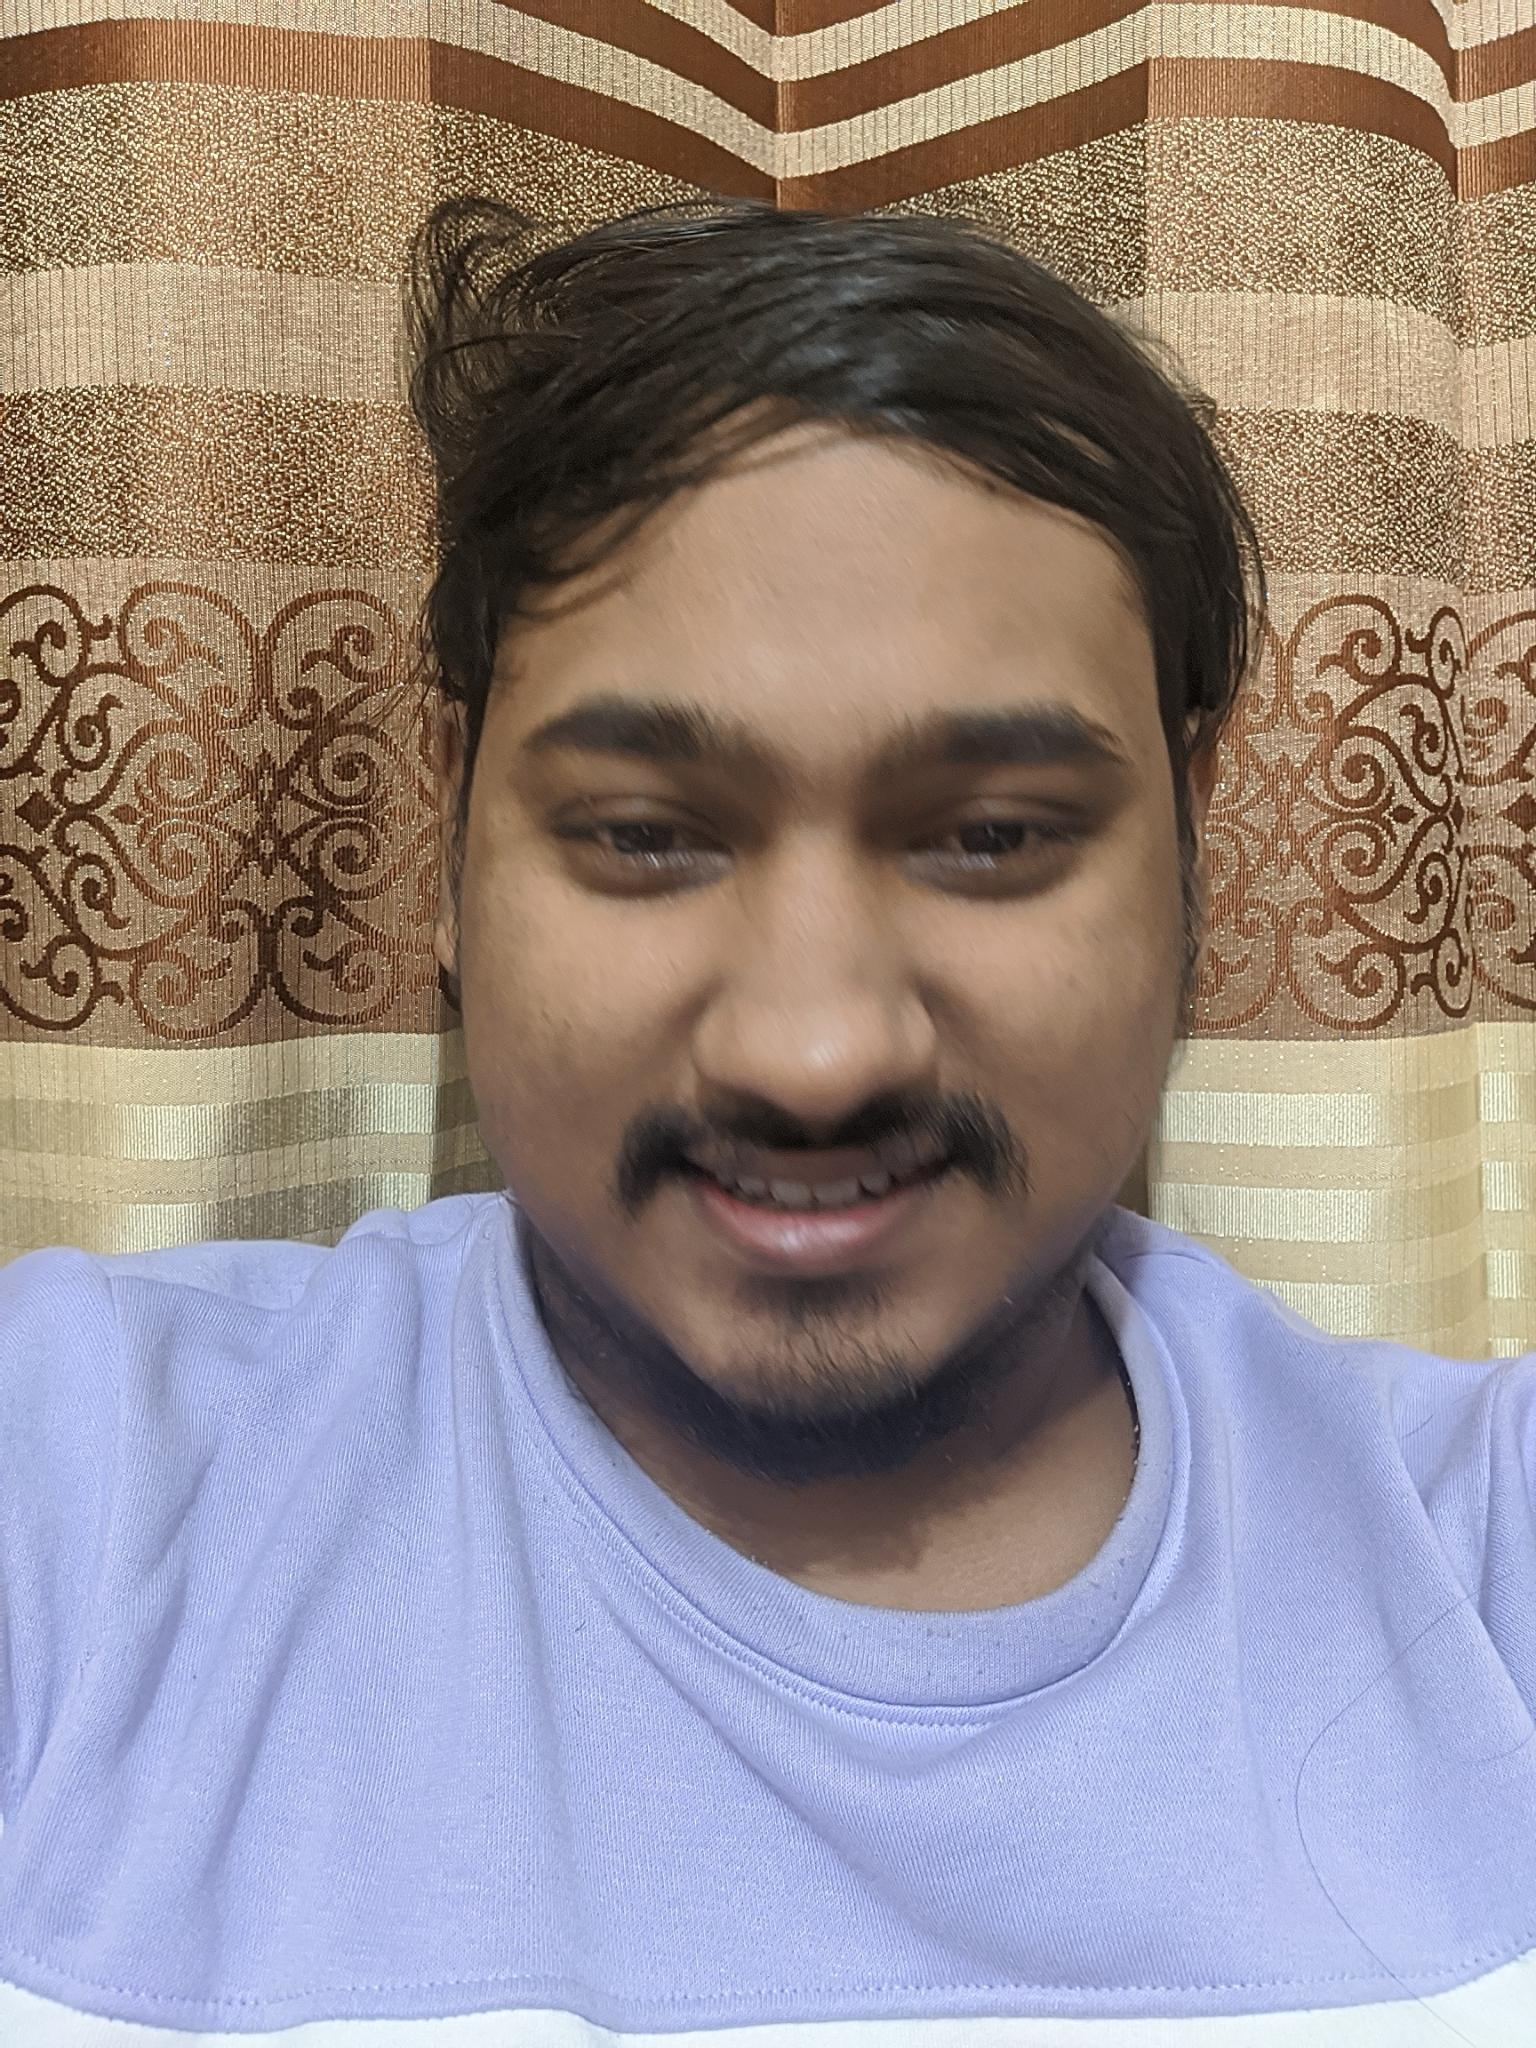Happy: (481, 543, 1170, 1405)
